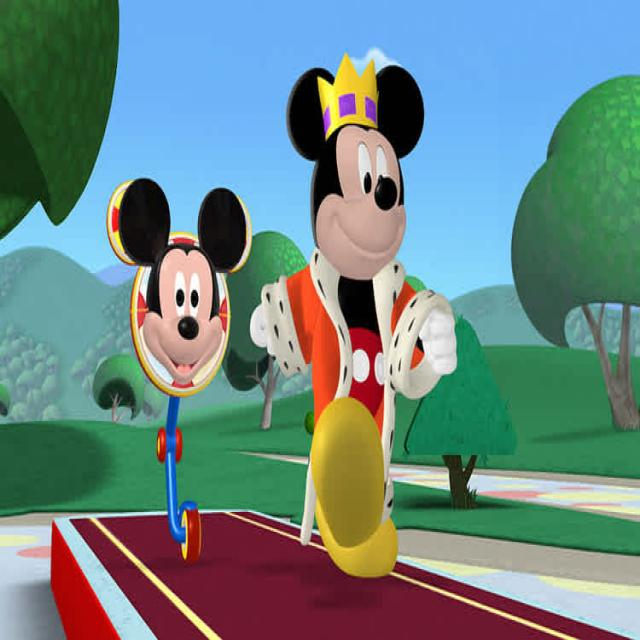mickey: (276, 47, 459, 404), (116, 159, 251, 390)
